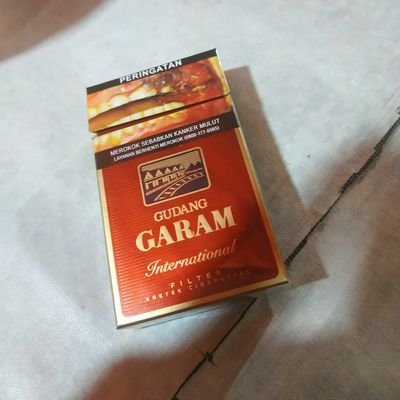garam filter: (73, 56, 304, 333)
